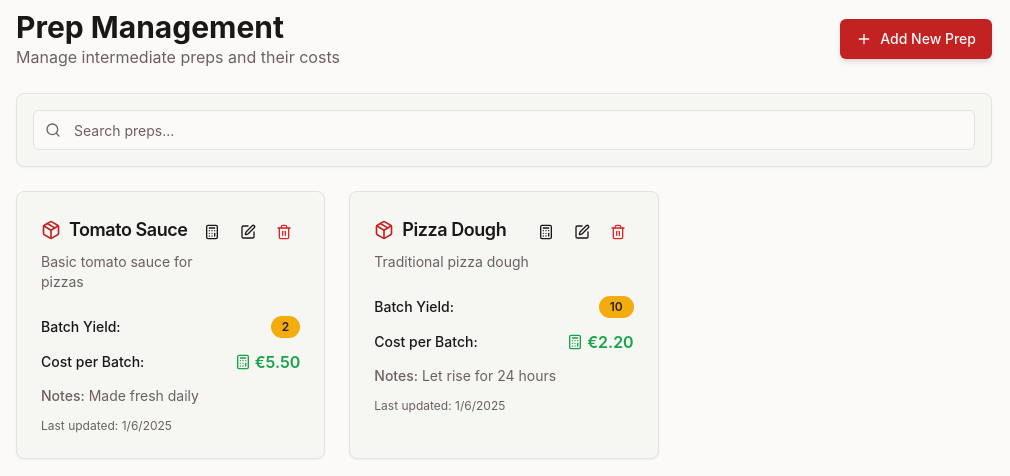
Prep Integration Tests › Search and Filtering Integration › should filter preps by search term
Expected: the heading "Tomato Sauce" is shown, [41, 216, 196, 244]
Expected: the heading "Pizza Dough" is shown, [374, 219, 506, 240]
# Search for tomato
Type "tomato" into the field with placeholder "Search preps...".
click(504, 130); type("tomato")  # box [33, 110, 975, 150]
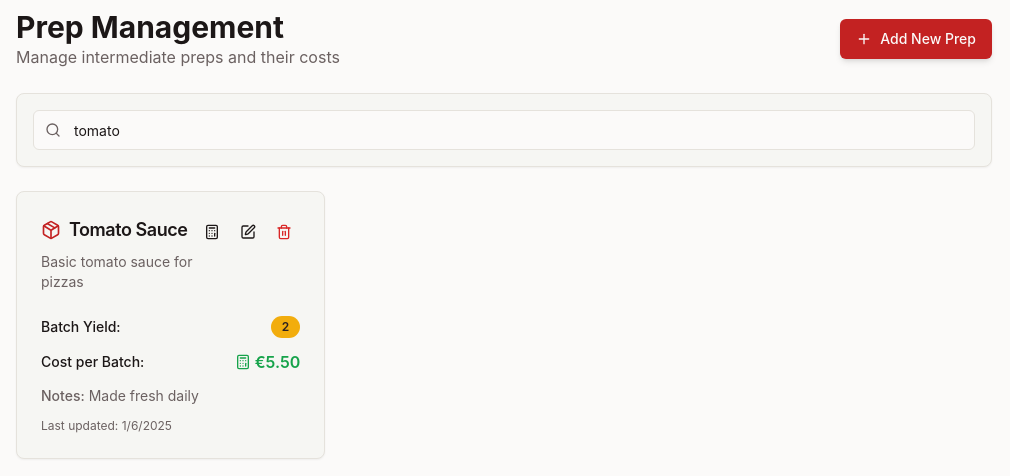
Expected: the heading "Tomato Sauce" is shown, [41, 216, 196, 244]
Expected: the heading "Pizza Dough" is gone
